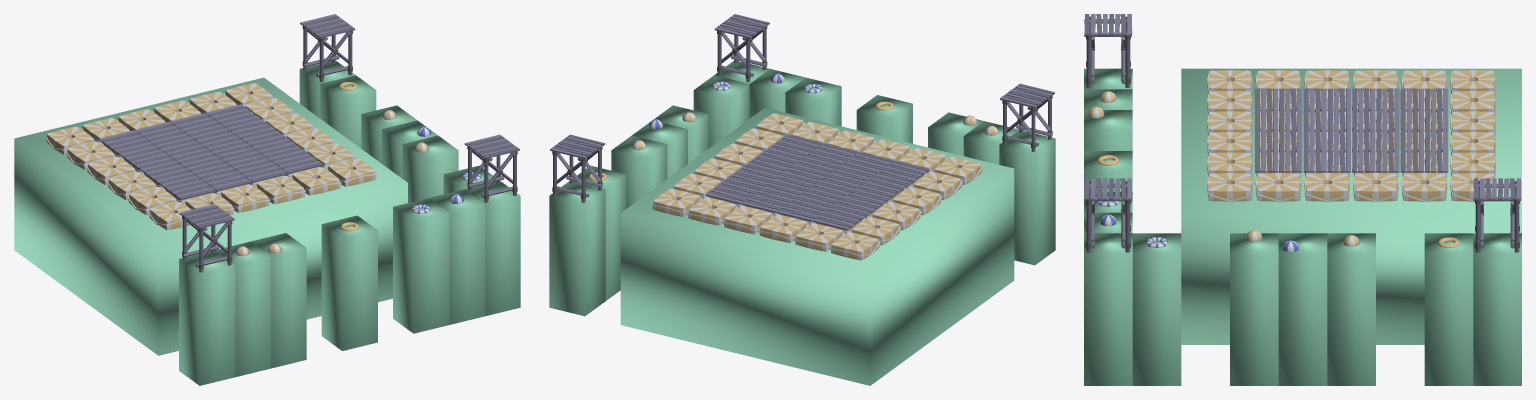
File: StageGroundAssemble_A_SM_C_66.fbx
3 views of the same model, side by side, from view 1: azimuth 30°, elevation 25°; view 2: azimuth 150°, elevation 25°; view 3: azimuth 270°, elevation 25° (orthographic). The views are drawn at different scales.
Visible parts, largest first — view 1: stage_sea_sm_foreground, stage_sea_sm_background__3__1, stage_sea_sm_background__8_, stage_sea_sm_background__2_, stage_sea_sm_background__9_, stage_sea_sm_background__6__1, stage_sea_sm_background__5__1, stage_sea_sm_background__1_, stage_sea_sm_background__7_, stage_sea_sm_background__3_, stage_a_background_deco_sm_001__2_, stage_a_background_deco_sm_001 (+41 smaller); view 2: stage_sea_sm_foreground, stage_sea_sm_background, stage_sea_sm_background__2_, stage_sea_sm_background__5_, stage_sea_sm_background__4_, stage_sea_sm_background__3_, stage_a_background_deco_sm_001__1_, stage_a_background_deco_sm_001, stage_a_background_deco_sm_001__2_, stage_sea_sm_background__3__1, stage_sea_sm_background__8_, stage_sea_sm_background__6__1 (+41 smaller); view 3: stage_sea_sm_foreground, stage_sea_sm_background__6_, stage_sea_sm_background__3_, stage_sea_sm_background__4_, stage_sea_sm_background__7_, stage_sea_sm_background__5_, stage_sea_sm_background, stage_sea_sm_background__1_, stage_a_background_deco_sm_001, stage_a_background_deco_sm_001__1_, stage_a_background_deco_sm_001__2_, stage_sea_sm_background__9_ (+41 smaller).
Part boxes in pixels (<box>): stage_sea_sm_foreground: <box>14,77,407,355</box>; stage_sea_sm_background__3__1: <box>321,215,377,350</box>; stage_sea_sm_background__8_: <box>393,198,449,333</box>; stage_sea_sm_background__2_: <box>179,251,235,385</box>; stage_sea_sm_background__9_: <box>250,233,306,368</box>; stage_sea_sm_background__6__1: <box>429,189,484,324</box>; stage_sea_sm_background__5__1: <box>215,241,270,377</box>; stage_sea_sm_background__1_: <box>464,181,520,316</box>; stage_sea_sm_background__7_: <box>402,135,458,202</box>; stage_sea_sm_background__3_: <box>320,75,376,148</box>; stage_a_background_deco_sm_001__2_: <box>179,204,234,272</box>; stage_a_background_deco_sm_001: <box>300,14,355,82</box>; stage_sea_sm_foreground: <box>620,108,1014,385</box>; stage_sea_sm_background: <box>549,181,605,316</box>; stage_sea_sm_background__2_: <box>999,130,1055,265</box>; stage_sea_sm_background__5_: <box>611,135,667,208</box>; stage_sea_sm_background__4_: <box>693,75,749,148</box>; stage_sea_sm_background__3_: <box>573,165,626,300</box>; stage_a_background_deco_sm_001__1_: <box>714,14,769,82</box>; stage_a_background_deco_sm_001: <box>550,134,605,202</box>; stage_a_background_deco_sm_001__2_: <box>1000,83,1054,151</box>; stage_sea_sm_background__3__1: <box>856,95,912,143</box>; stage_sea_sm_background__8_: <box>785,77,841,126</box>; stage_sea_sm_background__6__1: <box>749,69,805,118</box>; stage_sea_sm_foreground: <box>1181,68,1521,344</box>; stage_sea_sm_background__6_: <box>1278,233,1327,385</box>; stage_sea_sm_background__3_: <box>1424,233,1473,385</box>; stage_sea_sm_background__4_: <box>1132,233,1181,385</box>; stage_sea_sm_background__7_: <box>1230,233,1278,385</box>; stage_sea_sm_background__5_: <box>1327,233,1375,385</box>; stage_sea_sm_background: <box>1473,233,1521,385</box>; stage_sea_sm_background__1_: <box>1084,233,1132,385</box>; stage_a_background_deco_sm_001: <box>1473,178,1521,252</box>; stage_a_background_deco_sm_001__1_: <box>1084,178,1132,252</box>; stage_a_background_deco_sm_001__2_: <box>1084,14,1132,88</box>; stage_sea_sm_background__9_: <box>1084,110,1132,150</box>.
Size of the model in its own units: 3600 by 1699 by 3600.
1 material, 1 textured.
